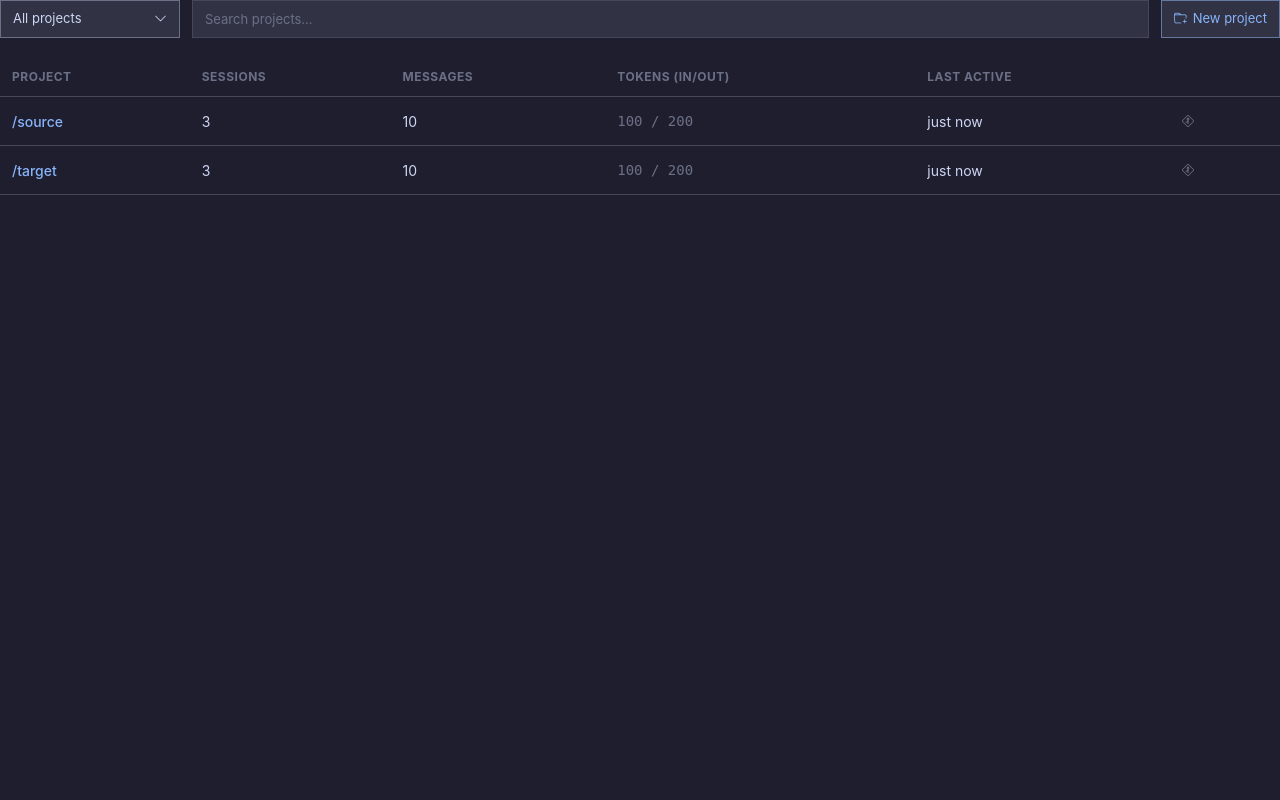
Test: ProjectsTab › keeps the selection and displays a failed merge for retry
The width and height of the screenshot is (1280, 800).
Step 1. Click the button named "Merge /source" → (1188, 121), box [1174,107,1202,135]
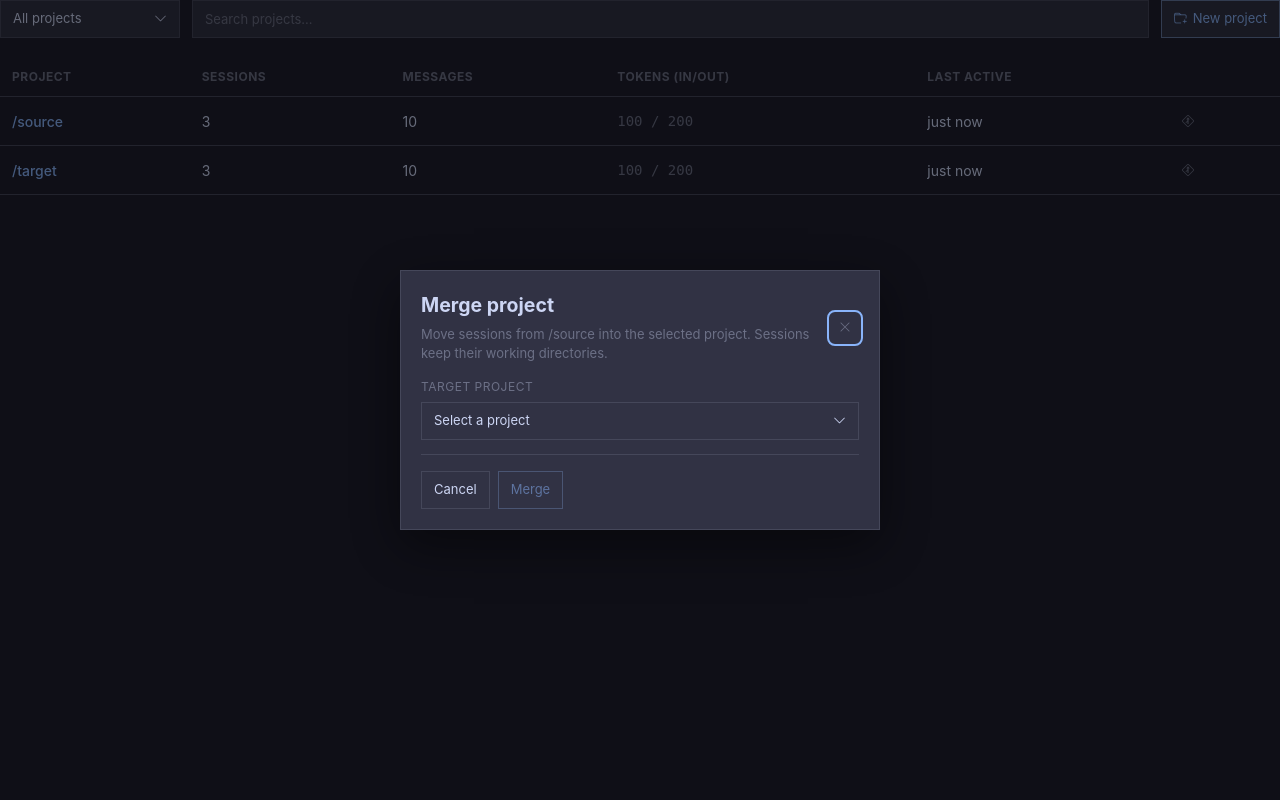
Step 2. Click the dropdown named "Target project" → (482, 420), box [421,402,859,440]
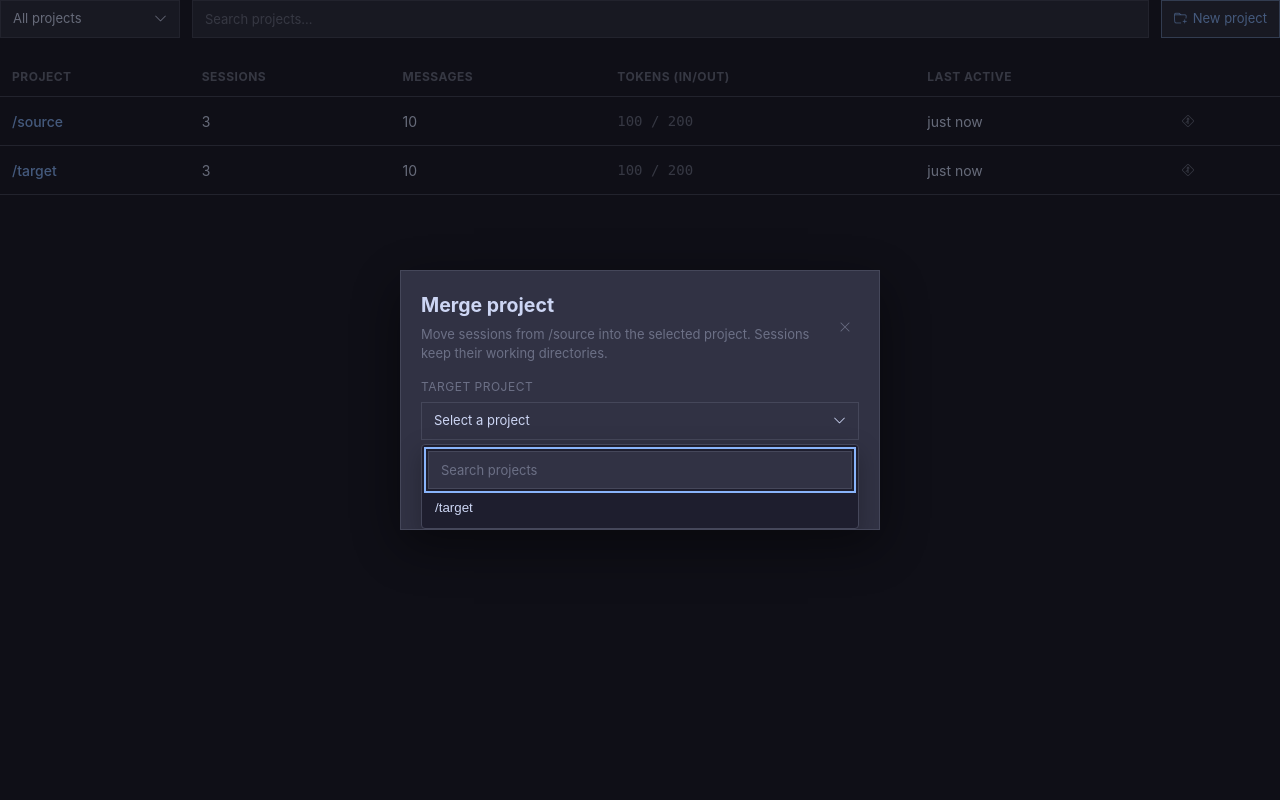
Step 3. Click the option "/target" → (454, 507), box [428,493,852,522]
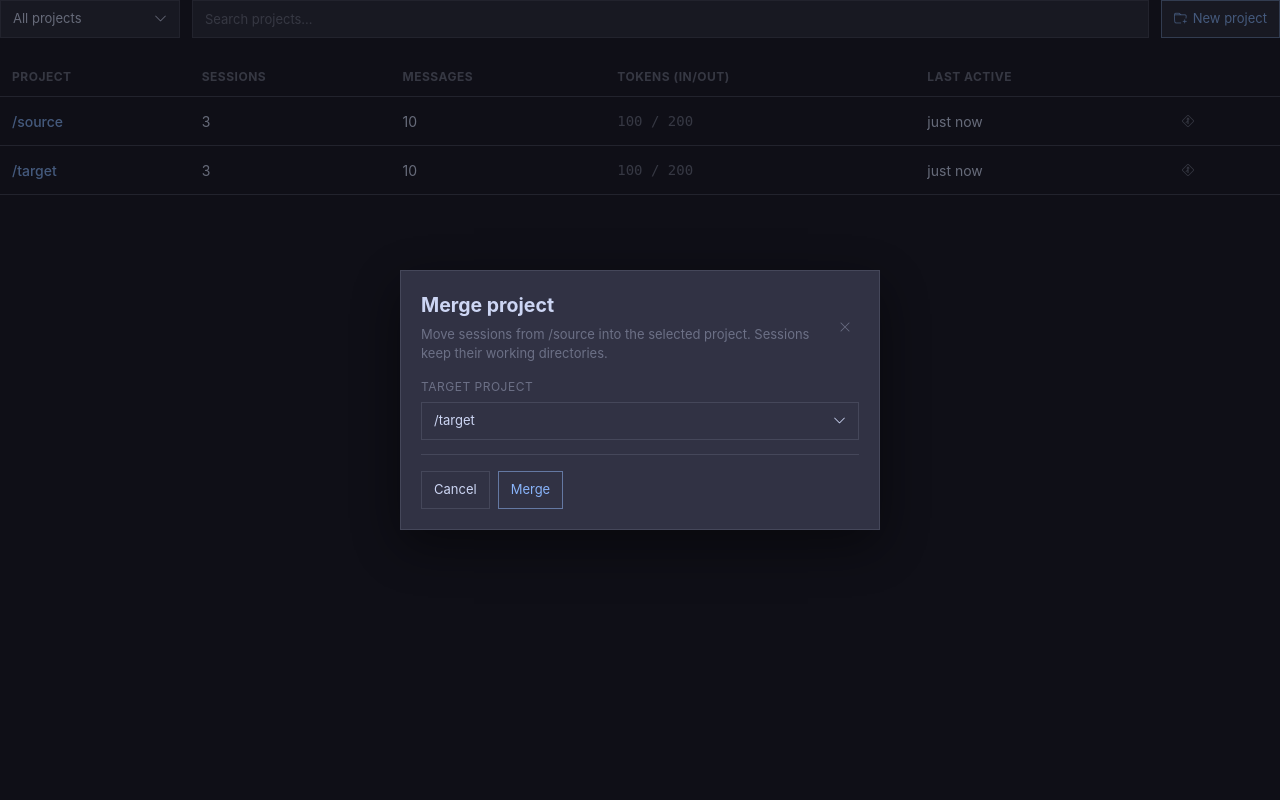
Step 4. Click the button "Merge" → (530, 490), box [498,471,563,509]
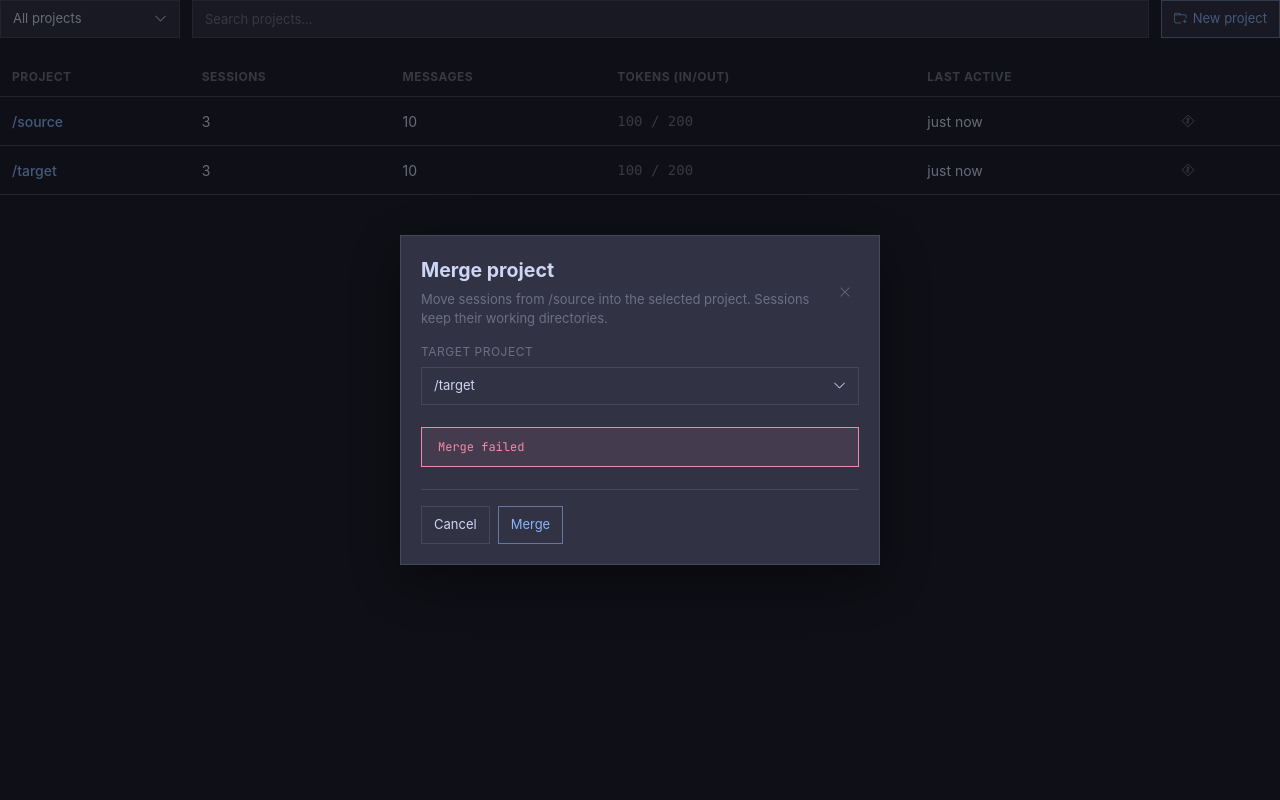
Now the button "Merge" is enabled, box [498,506,563,544]
Now the dropdown named "Target project" reads "/target", box [421,367,859,405]
Now the message reads "Merge failed", box [438,439,524,455]
Step 5. Click the button "Cancel" → (455, 525), box [421,506,490,544]
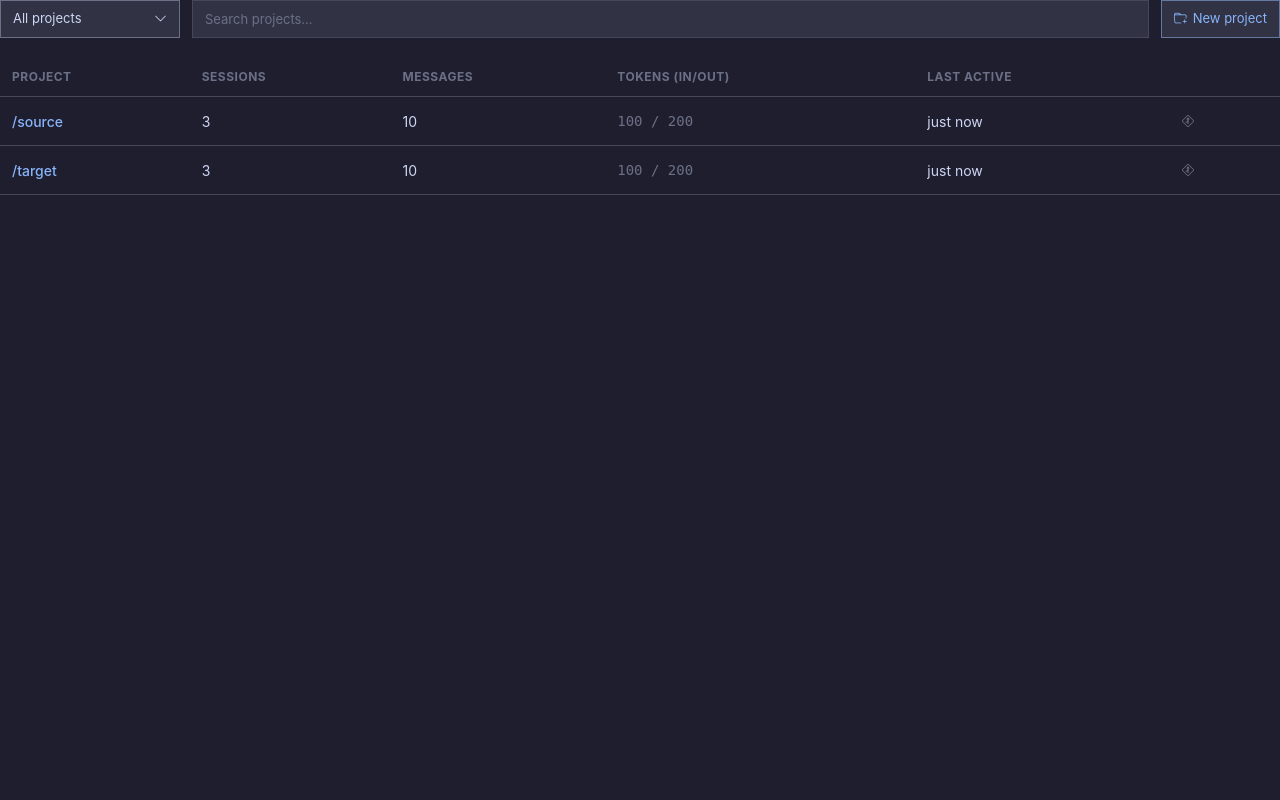
Now the dialog is gone
